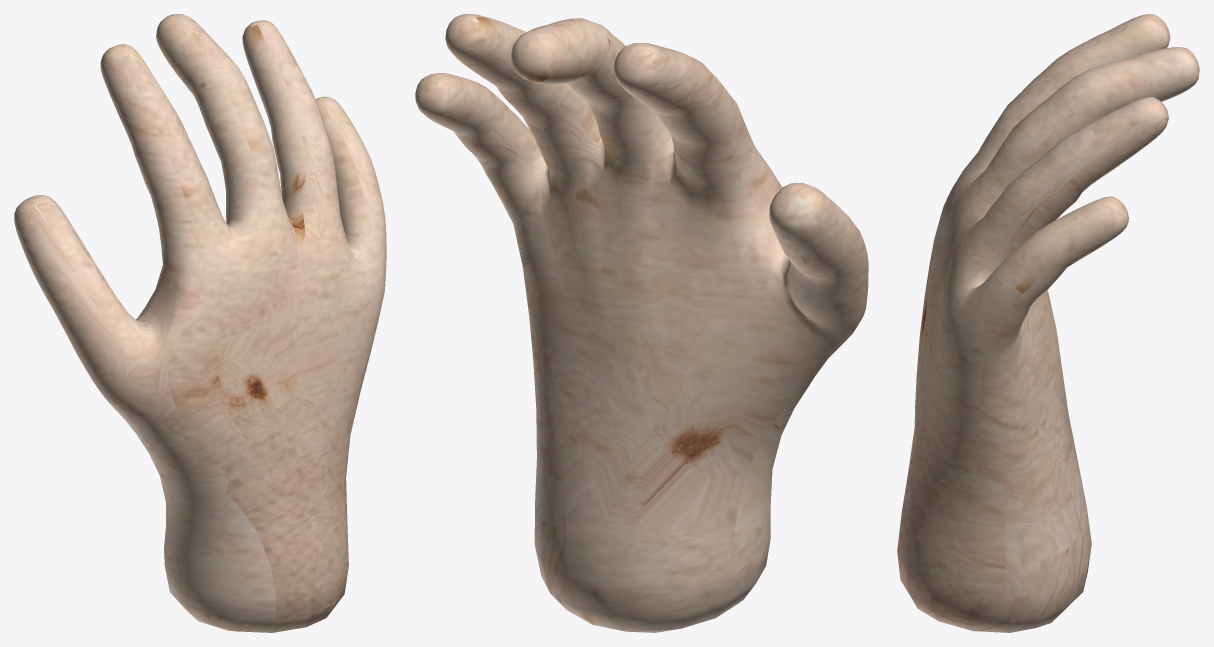
Rendered from try.obj.
3 views of the same model, side by side, from view 1: azimuth 30°, elevation 25°; view 2: azimuth 150°, elevation 25°; view 3: azimuth 270°, elevation 25° (orthographic). The views are drawn at different scales.
Visible parts, largest first — view 1: Cube.001; view 2: Cube.001; view 3: Cube.001.
Boxes of the visible parts, x1,y1,x2,y2 form: Cube.001: (14,14,386,632); Cube.001: (415,14,868,632); Cube.001: (897,14,1199,632).
Bounding box in the file's own units: 3.65 × 5.68 × 2.74.
1 material, 1 textured.
